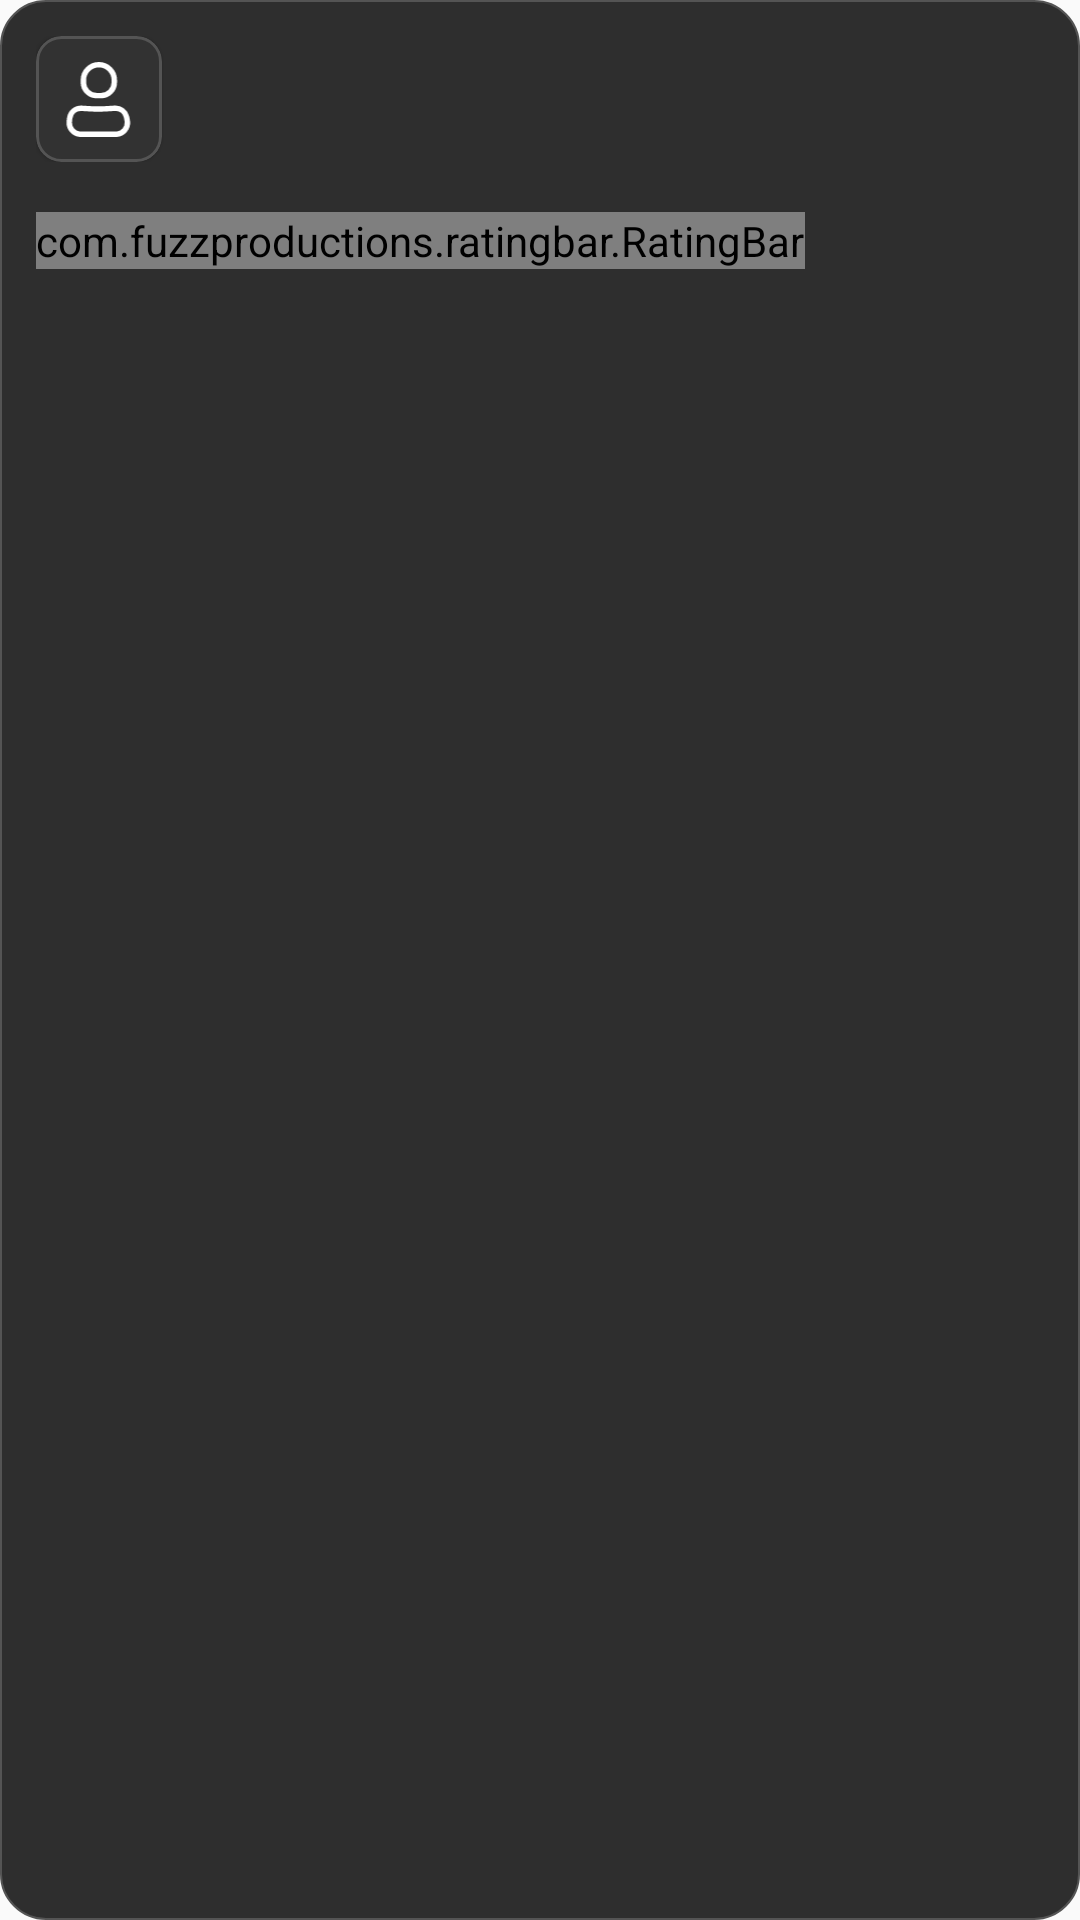

Where icons sit on this 1080w x 1920h app screen, as {"x1": x1, "y1": y1, "x2": x2, "y2": y2}:
profile: {"x1": 66, "y1": 62, "x2": 131, "y2": 137}
